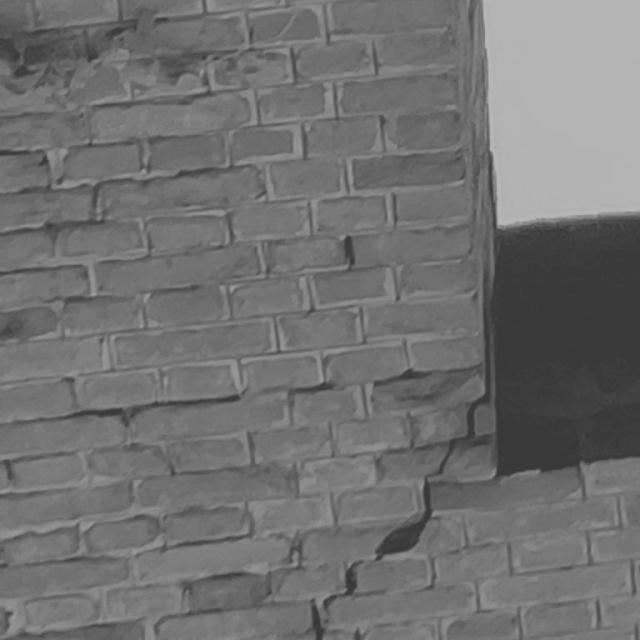crack: (310, 331, 491, 640), (62, 362, 482, 427)
